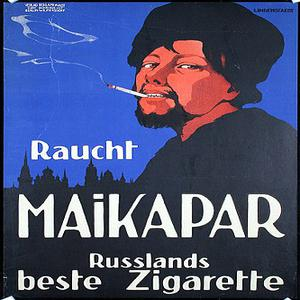cigarette: (107, 82, 148, 100)
